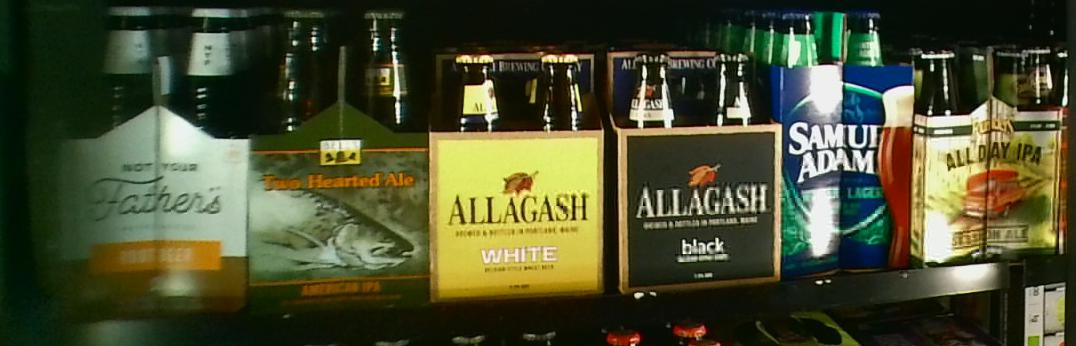bottle: (68, 4, 247, 315), (253, 3, 429, 307), (430, 36, 609, 293), (605, 49, 775, 287), (775, 7, 912, 282), (921, 39, 1064, 254)
